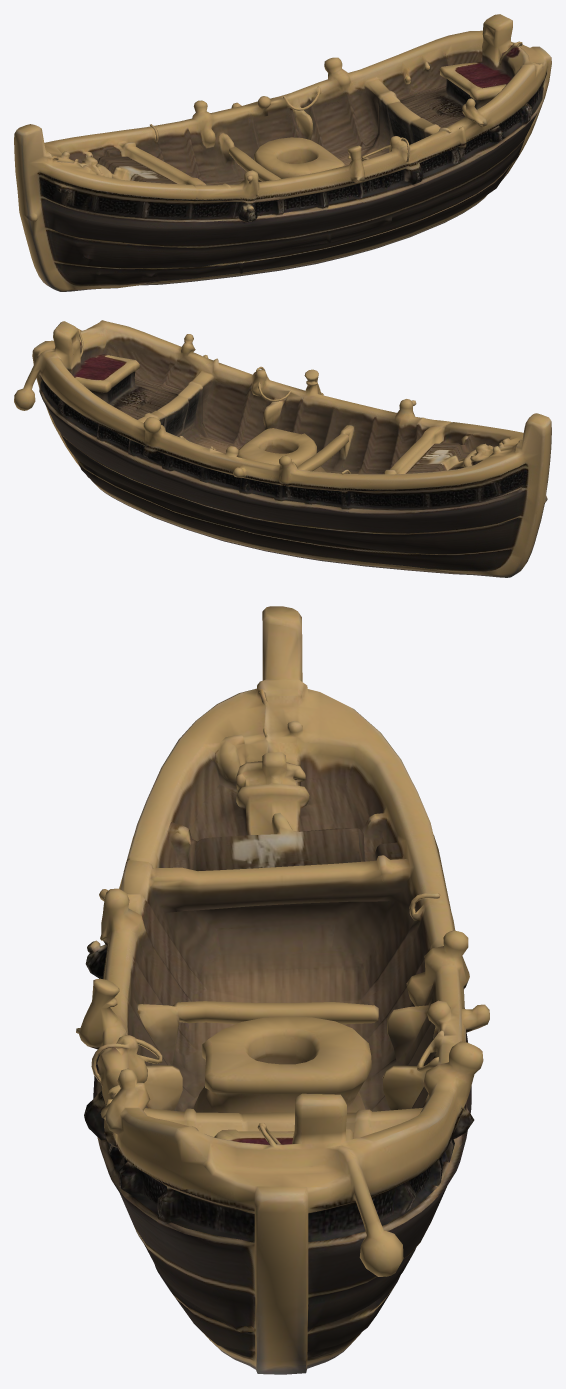
The model's file is wooden_hull.glb.
3 renders of one model, top to bottom at view 1: azimuth 30°, elevation 25°; view 2: azimuth 150°, elevation 25°; view 3: azimuth 270°, elevation 25°, orthographic. The views are drawn at different scales.
Parts seen in each view (by area): view 1: tripo_node_5e7278e0-ec6d-4280-858e-92a94079c3cf; view 2: tripo_node_5e7278e0-ec6d-4280-858e-92a94079c3cf; view 3: tripo_node_5e7278e0-ec6d-4280-858e-92a94079c3cf.
Boxes of the visible parts, bbox=[...] form: tripo_node_5e7278e0-ec6d-4280-858e-92a94079c3cf: bbox=[14, 14, 551, 291]; tripo_node_5e7278e0-ec6d-4280-858e-92a94079c3cf: bbox=[14, 320, 551, 577]; tripo_node_5e7278e0-ec6d-4280-858e-92a94079c3cf: bbox=[76, 606, 489, 1374].
Size of the model in its own units: 1 by 0.3317 by 0.3508.
1 material, 1 textured.
